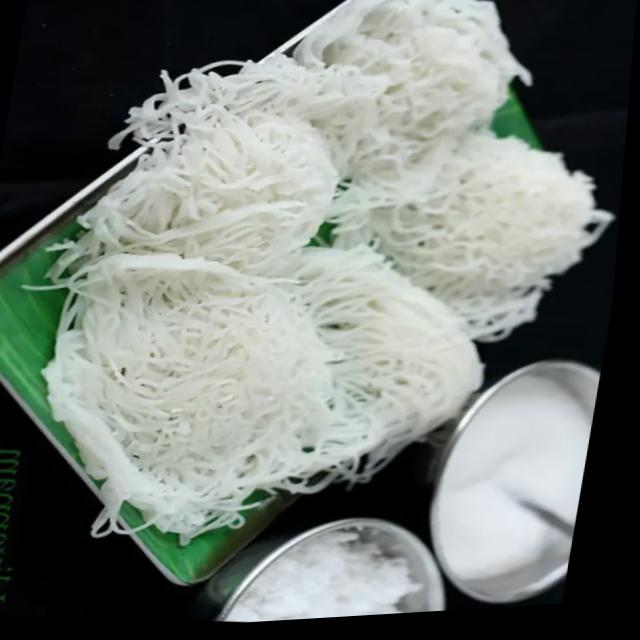IDIYAPPAM: (31, 0, 615, 543)
SWEET: (440, 375, 591, 573)
